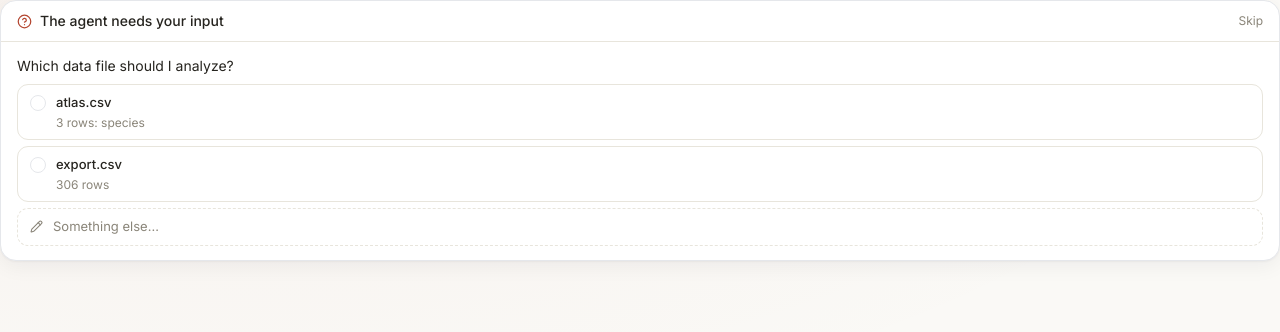
Test: InteractionPrompt — question › does not submit an empty own-words answer
Click the button "Something else…".
click(106, 226)  # box [17, 208, 1263, 246]
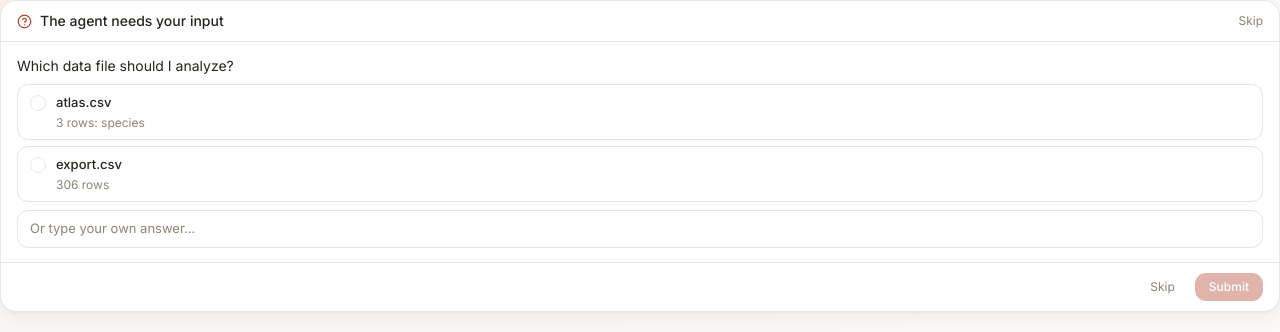
Expected: the button "Submit" is disabled, [1195, 272, 1263, 300]
